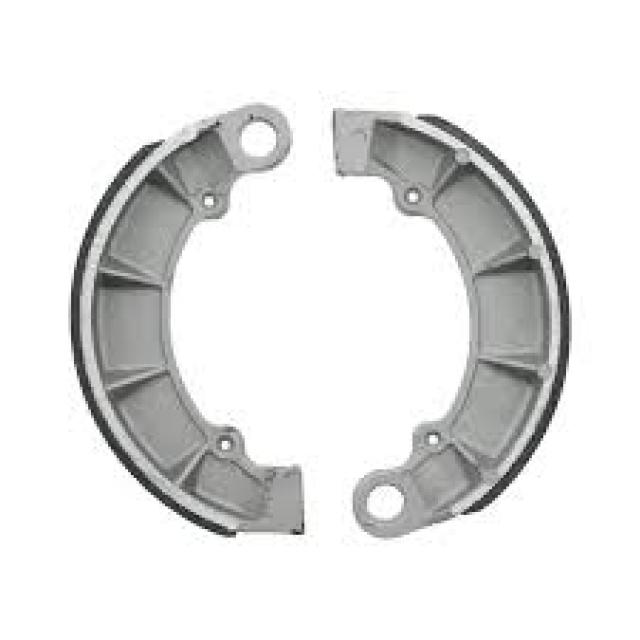brake_pad: (325, 100, 577, 545), (62, 96, 310, 546)
